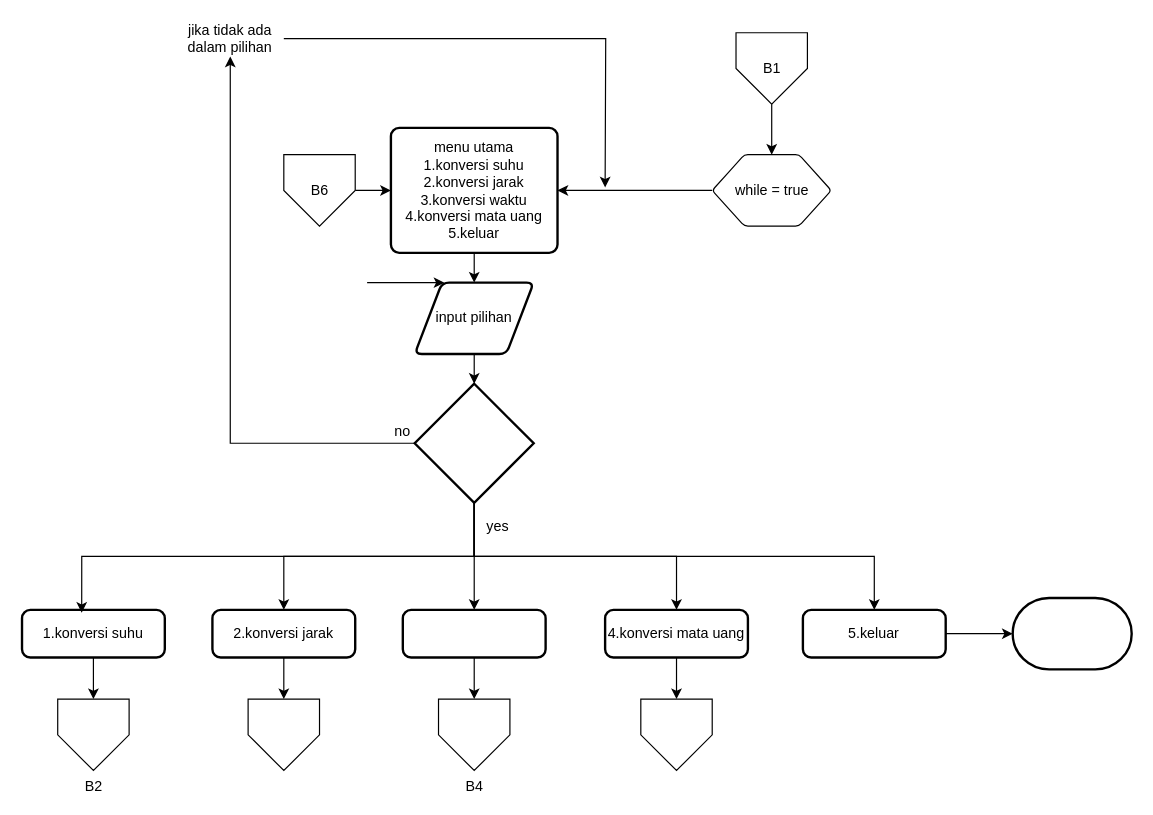
This 1153x815 diagram has some shape labels left out. The shapes that lost their labels are listed below. From the top down, each one's centre as x and y in pixels, then its label:
At (473,442): "pilih 1-5".
At (473,633): "3.konversi waktu".
At (1071,633): "end".
At (283,734): "B3".
At (676,734): "B5".
